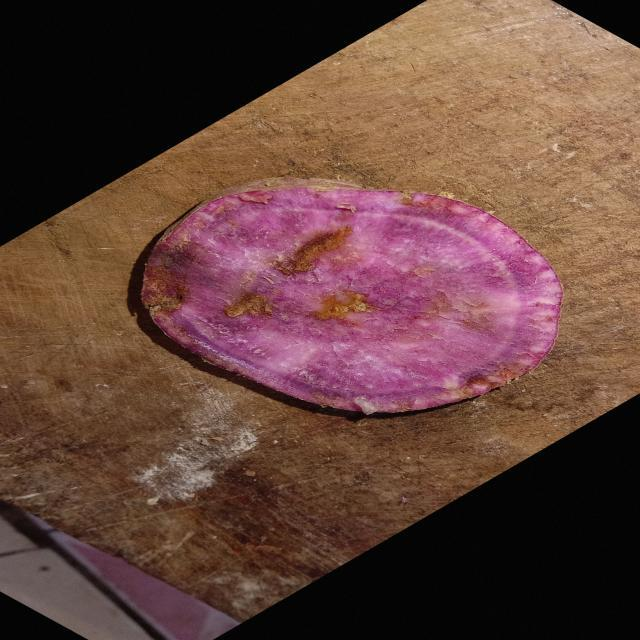Sick Sweet Potato_Tuber Rot: (142, 178, 562, 414)
